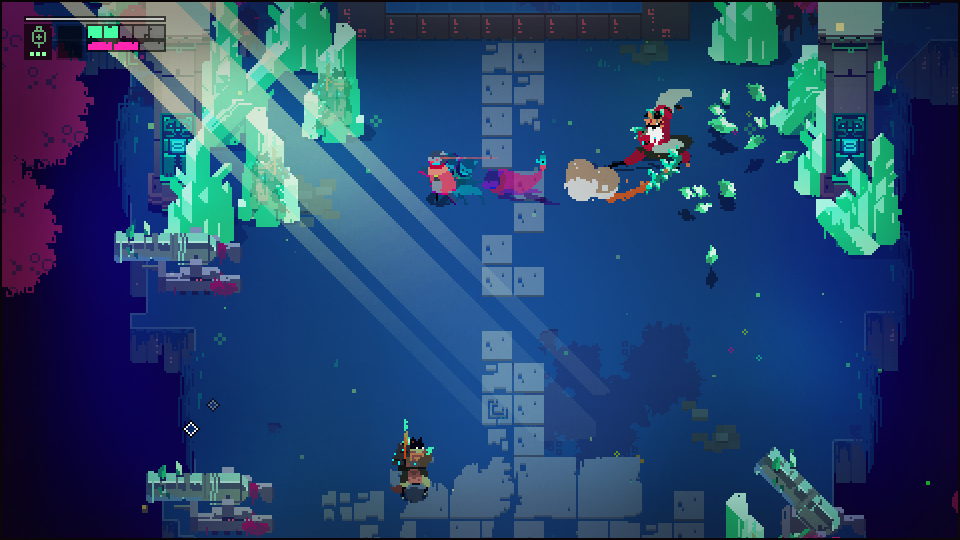hanged_man: (622, 92, 688, 194)
player: (427, 157, 456, 201)
